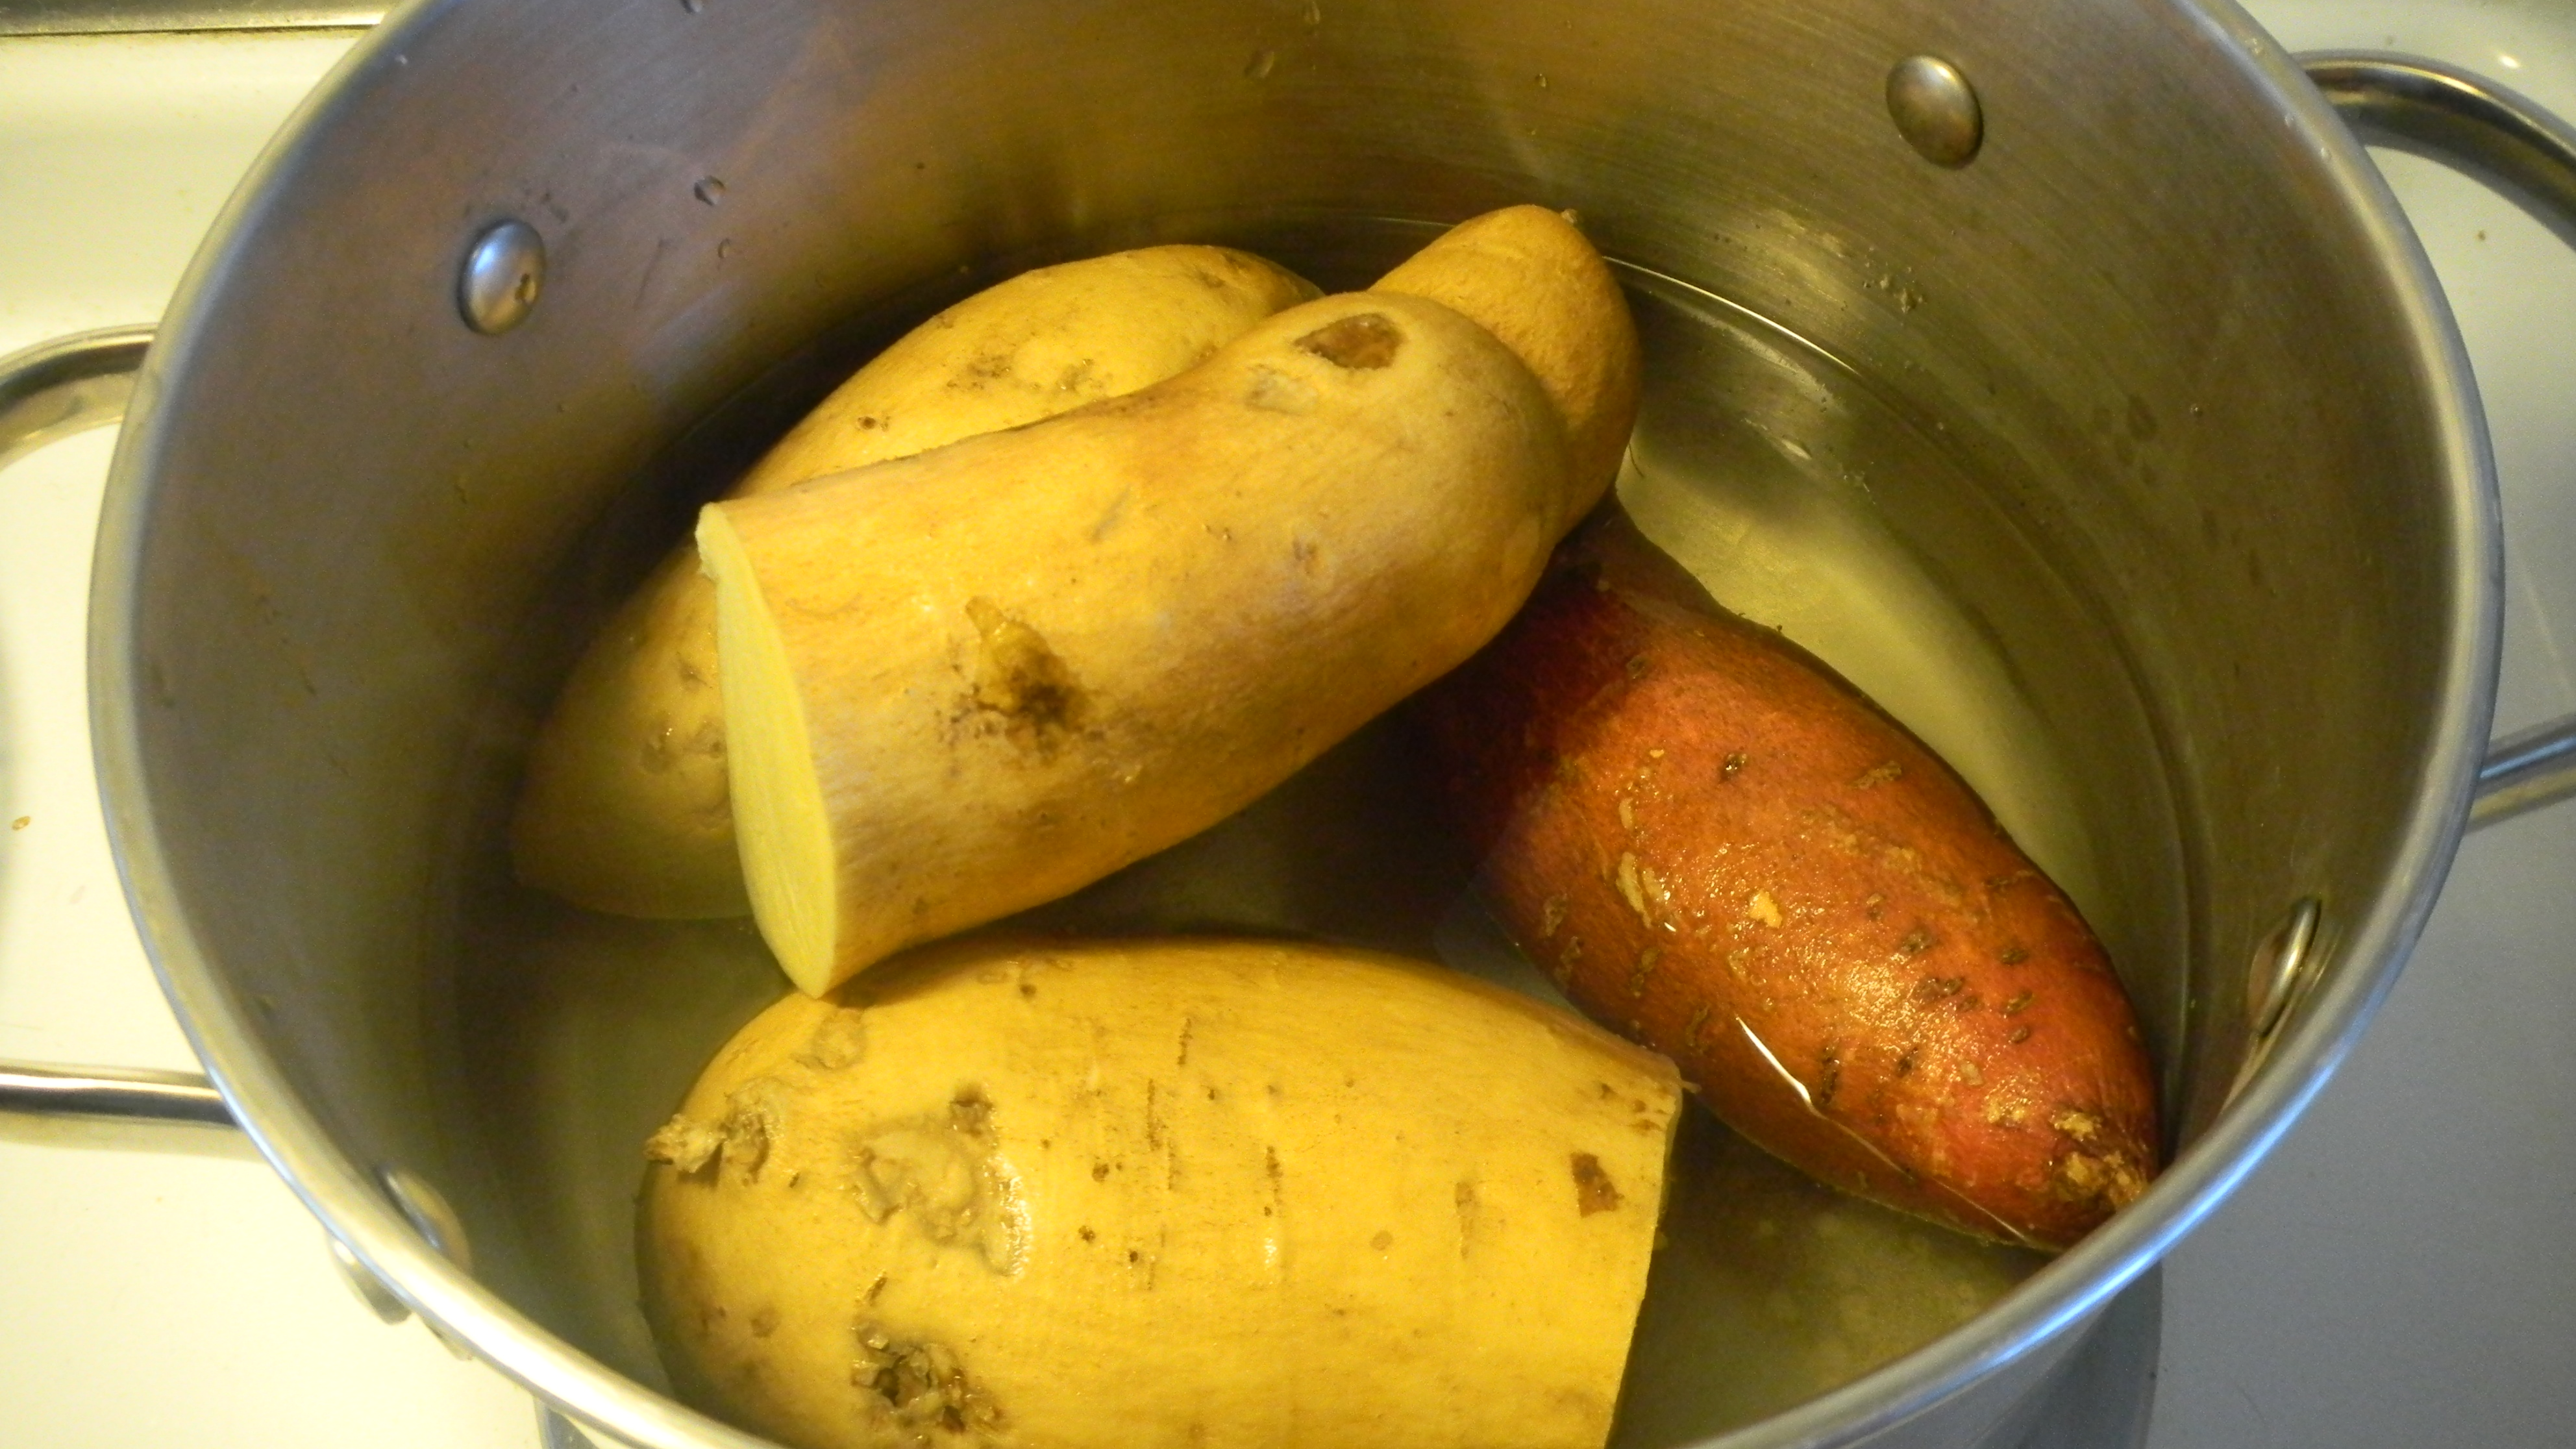boiled potatoes: (632, 341, 1553, 893), (651, 1042, 1656, 1449)
